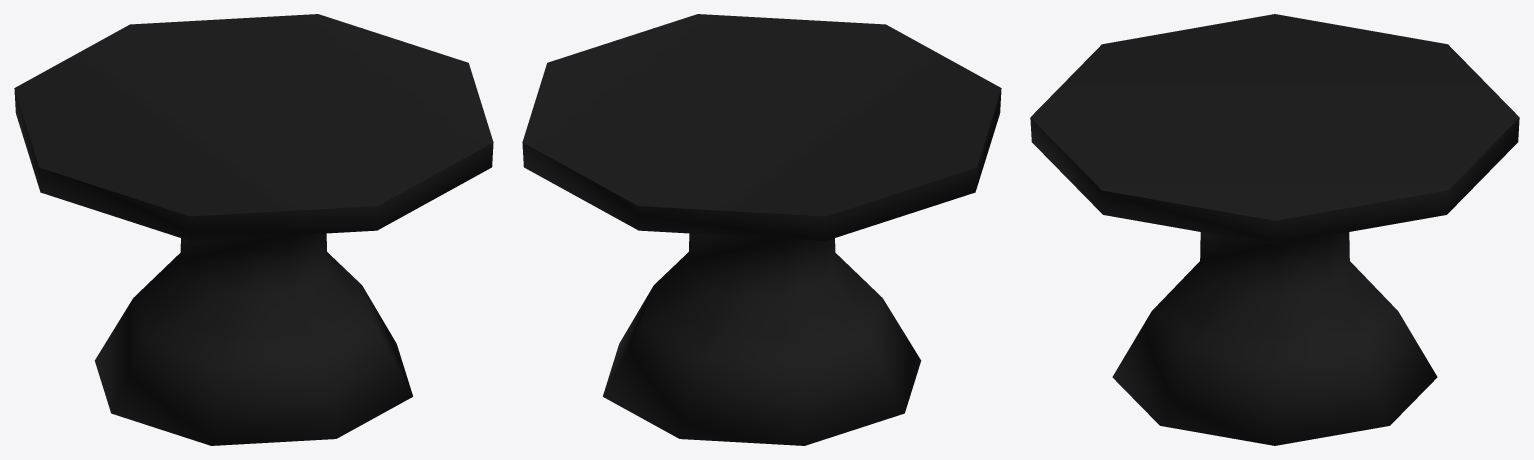
Rendered from Cake_Display_F.FBX.
3 views of the same model, side by side, from view 1: azimuth 30°, elevation 25°; view 2: azimuth 150°, elevation 25°; view 3: azimuth 270°, elevation 25° (orthographic).
Parts seen in each view (by area): view 1: Cake Display; view 2: Cake Display; view 3: Cake Display.
Part boxes in pixels (x1=…): Cake Display: x1=14, y1=14, x2=493, y2=445; Cake Display: x1=522, y1=14, x2=1001, y2=445; Cake Display: x1=1030, y1=14, x2=1519, y2=445.
Size of the model in its own units: 89.08 by 52.2 by 89.08.
